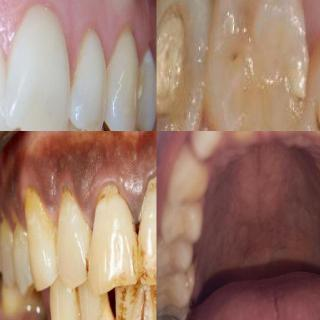Gum Swelling: (22, 160, 156, 226)
calculus: (88, 174, 133, 254), (134, 164, 156, 272), (26, 178, 54, 230), (57, 180, 81, 238)
cavities: (156, 9, 192, 131), (242, 0, 300, 36)
maligned: (0, 0, 74, 131)
stains: (98, 245, 140, 285), (138, 230, 156, 282), (115, 287, 143, 320), (78, 247, 100, 285)
